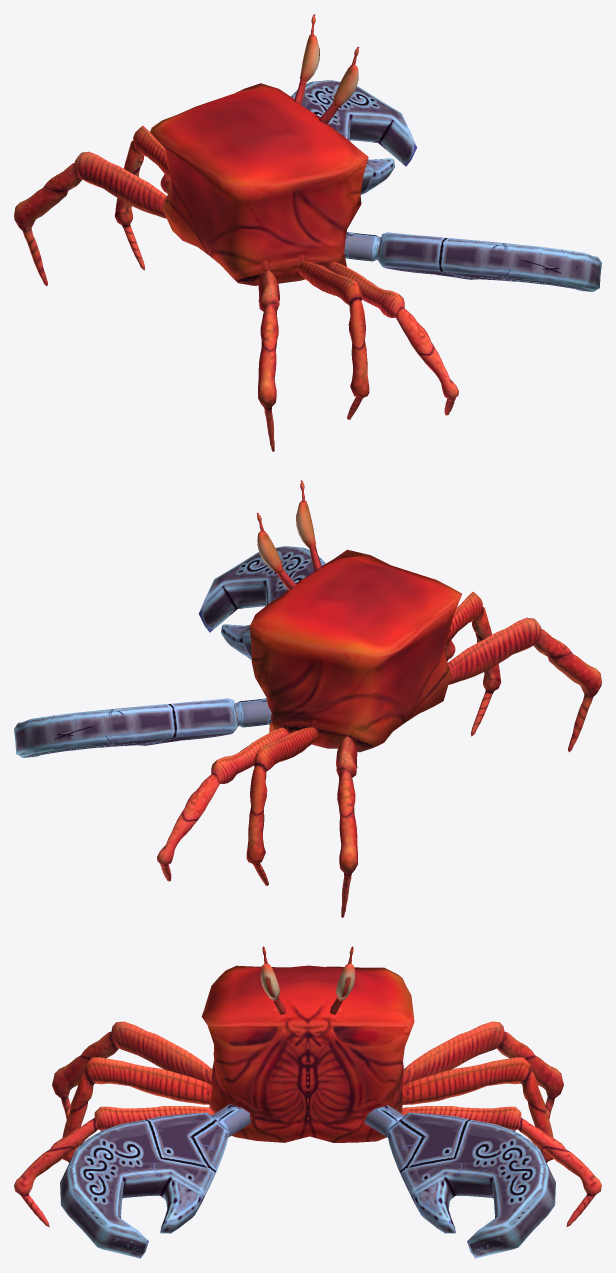
Rendered from cangrejo_robotico (4).glb.
The picture shows the model from 3 angles, top to bottom: view 1: azimuth 30°, elevation 25°; view 2: azimuth 150°, elevation 25°; view 3: azimuth 270°, elevation 25°; orthographic projection.
Visible parts, largest first — view 1: Object_2; view 2: Object_2; view 3: Object_2.
Boxes of the visible parts, box(x1,y1,x2,y2) form: Object_2: box(14, 14, 601, 451); Object_2: box(14, 480, 601, 917); Object_2: box(14, 946, 601, 1258).
Bounding box in the file's own units: 5.4 × 4.18 × 7.45.
1 material, 1 textured.
